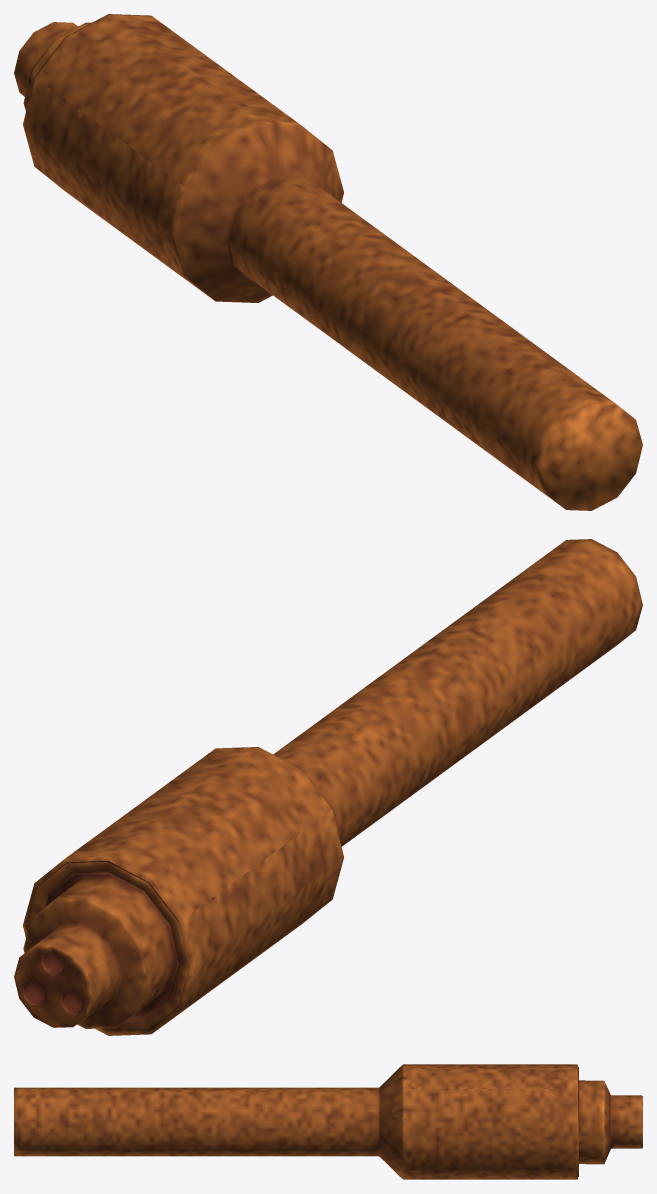
The picture shows the model from 3 angles, top to bottom: view 1: azimuth 30°, elevation 25°; view 2: azimuth 150°, elevation 25°; view 3: azimuth 270°, elevation 25°; orthographic projection. The views are drawn at different scales.
Visible parts, largest first — view 1: Cylinder.008; view 2: Cylinder.008; view 3: Cylinder.008.
Part boxes in pixels (box(x1,y1,x2,y2)): Cylinder.008: box(14, 14, 642, 510); Cylinder.008: box(14, 539, 642, 1035); Cylinder.008: box(14, 1064, 642, 1179).
Bounding box in the file's own units: 0.4191 × 0.4191 × 2.28.
1 material, 1 textured.
